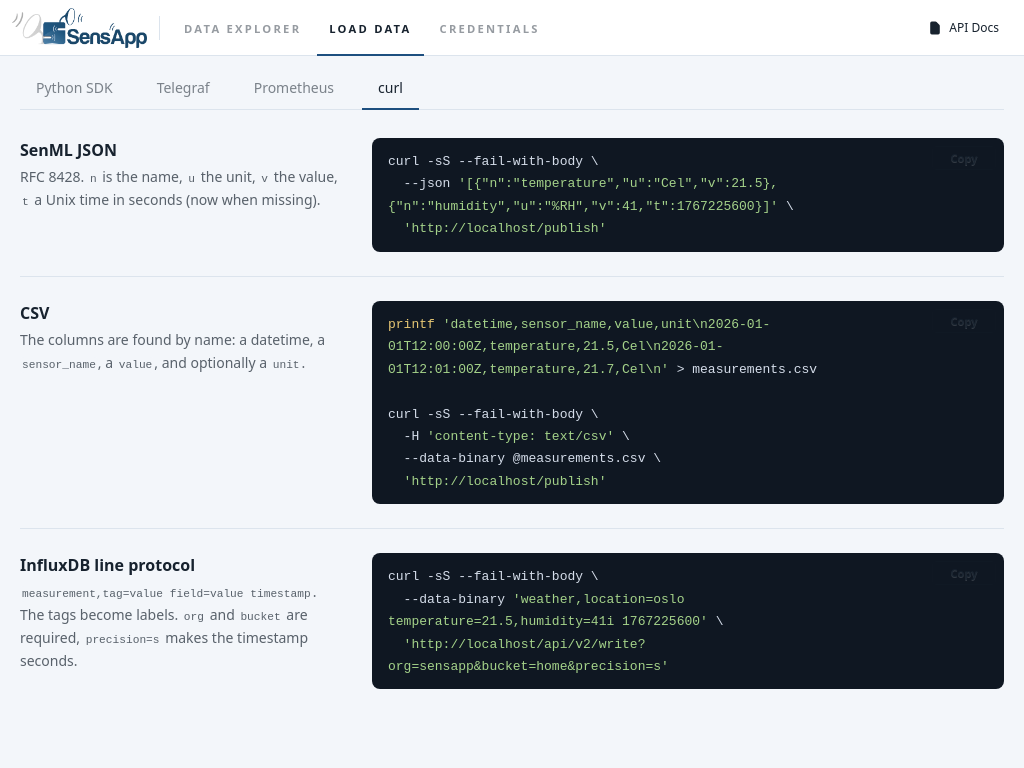
LoadPage › colors the code, and copies it
The image size is (1024, 768).
Expected: the 1st text with class "hljs-string" is shown, [388, 176, 778, 214]
Click the button with aria-label "Copy SenML JSON" at (964, 158), box [932, 146, 996, 170]
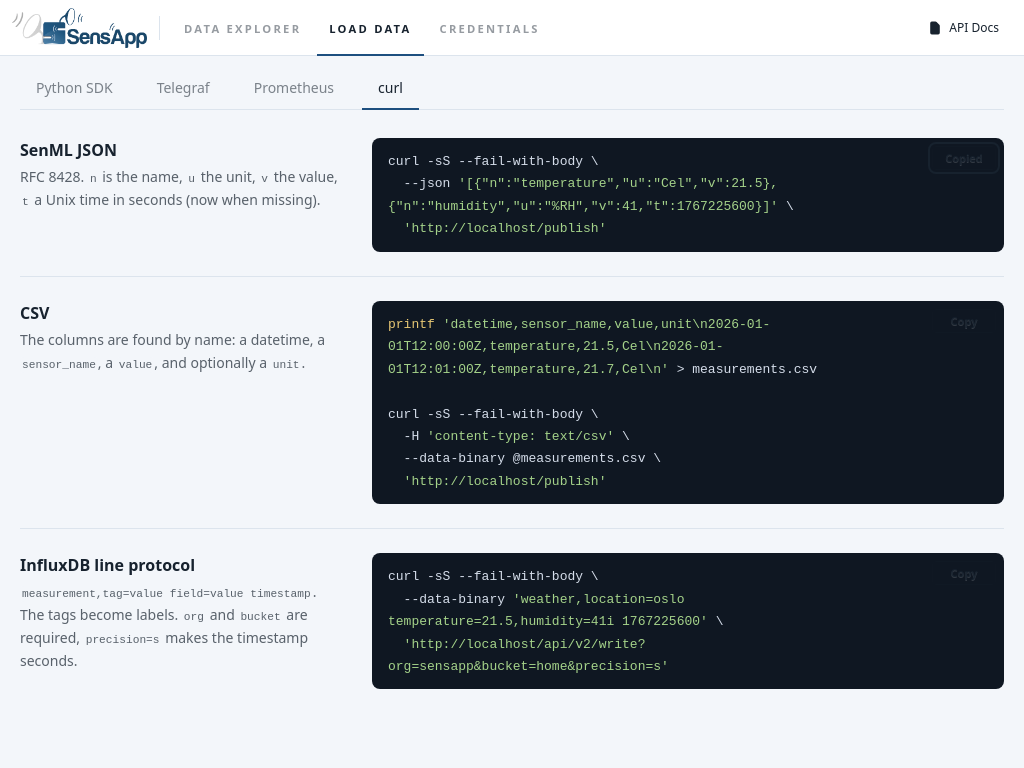
Now the button with aria-label "Copy SenML JSON" reads "Copied", box [932, 146, 996, 170]
